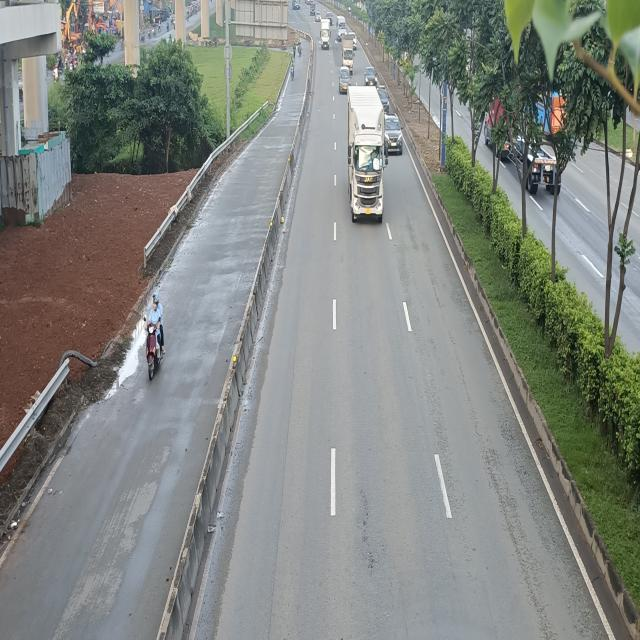container: (348, 89, 388, 222)
